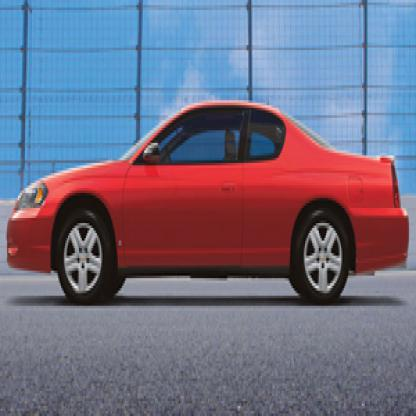Vehicle: (4, 98, 415, 323)
